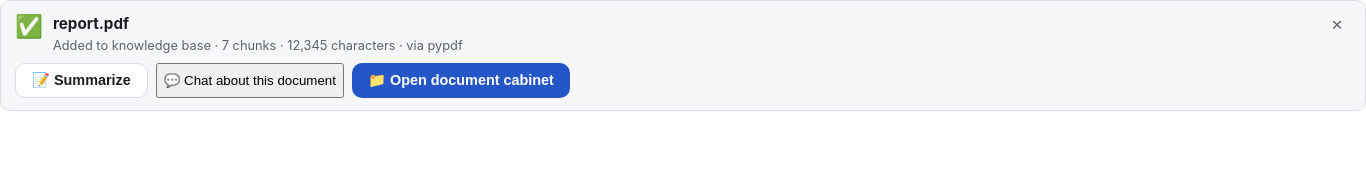
Scenario: UploadCard › shows an error when the stream fails
Click the button "📝 Summarize": click(81, 80) [15,63,148,98]
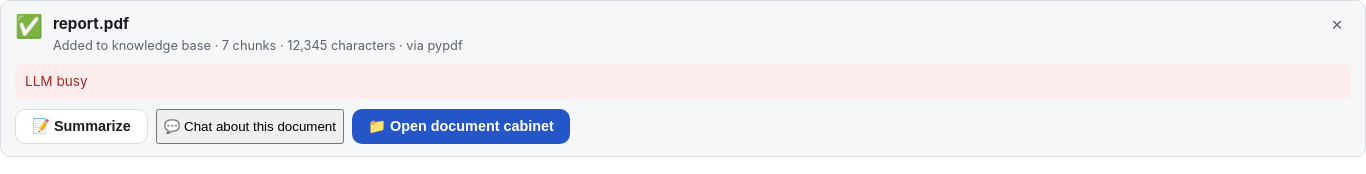
Result: the message reads "LLM busy" at [25,73,88,89]
